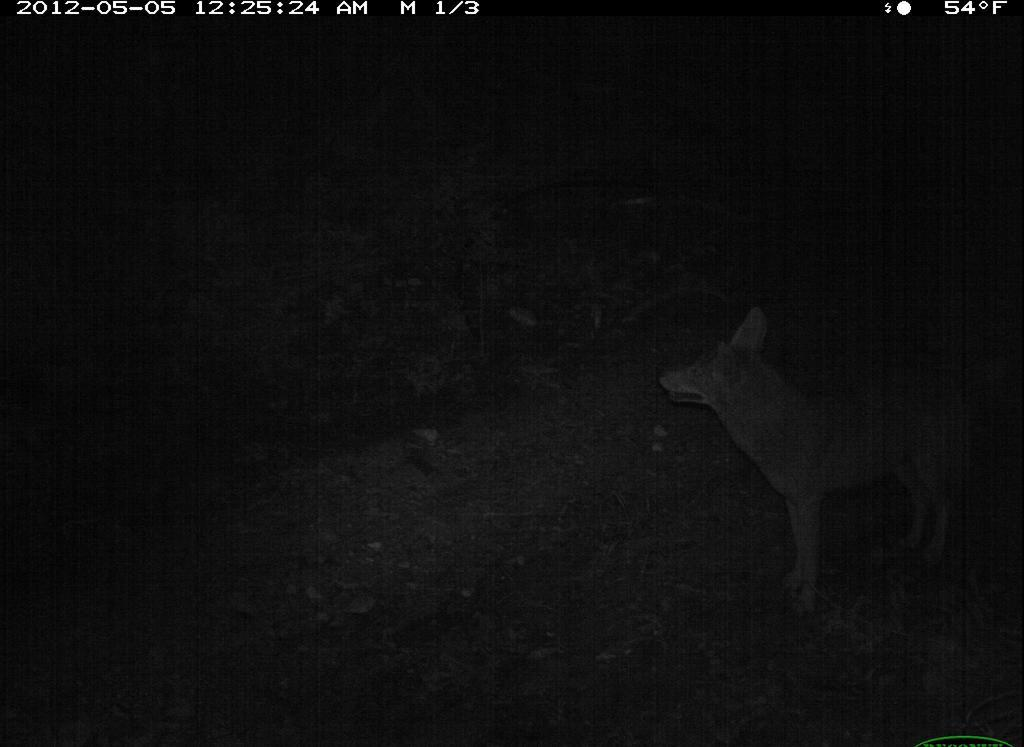coyote: (637, 290, 1003, 626)
